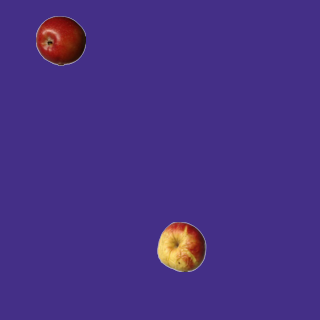Apple Braeburn: (35, 15, 85, 65)
Apple Red Yellow 1: (156, 221, 206, 271)
